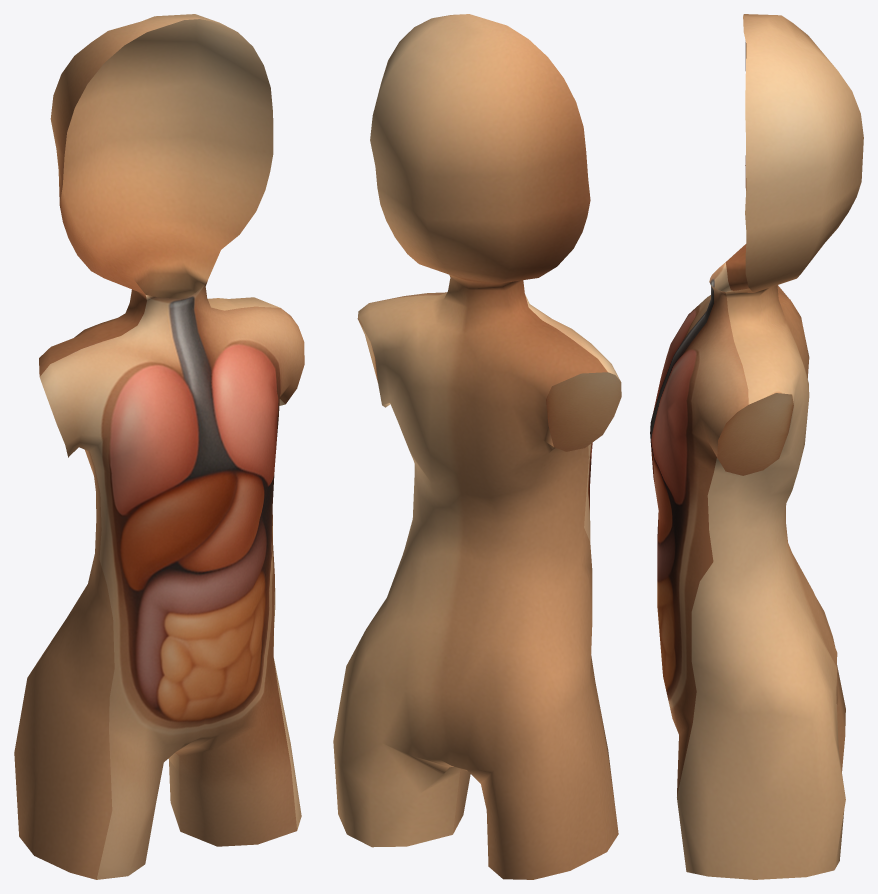
Rendered from Man_Body_0928.fbx.
3 views of the same model, side by side, from view 1: azimuth 30°, elevation 25°; view 2: azimuth 150°, elevation 25°; view 3: azimuth 270°, elevation 25° (orthographic).
Parts seen in each view (by area): view 1: pSphere2; view 2: pSphere2; view 3: pSphere2.
Part boxes in pixels (bbox=[...]): pSphere2: bbox=[14, 14, 304, 879]; pSphere2: bbox=[333, 14, 621, 879]; pSphere2: bbox=[650, 14, 863, 879].
Size of the model in its own units: 113 by 345 by 82.55.
Materials: 1 (1 with a texture image).
